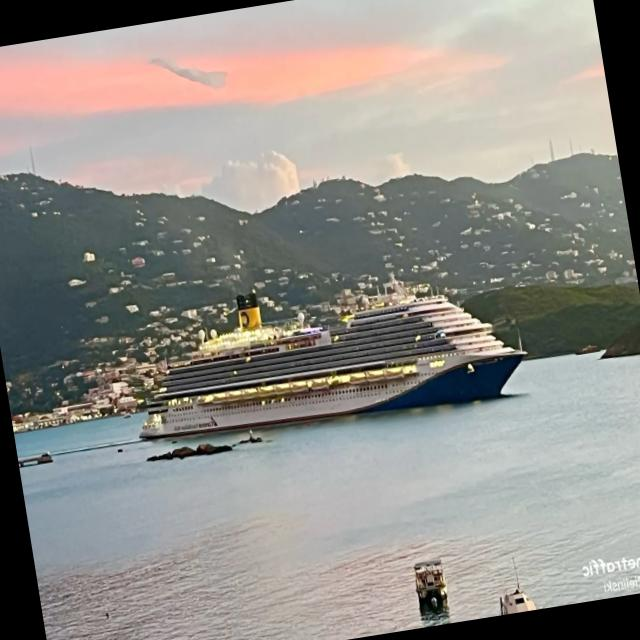Cruise: (140, 279, 525, 440)
